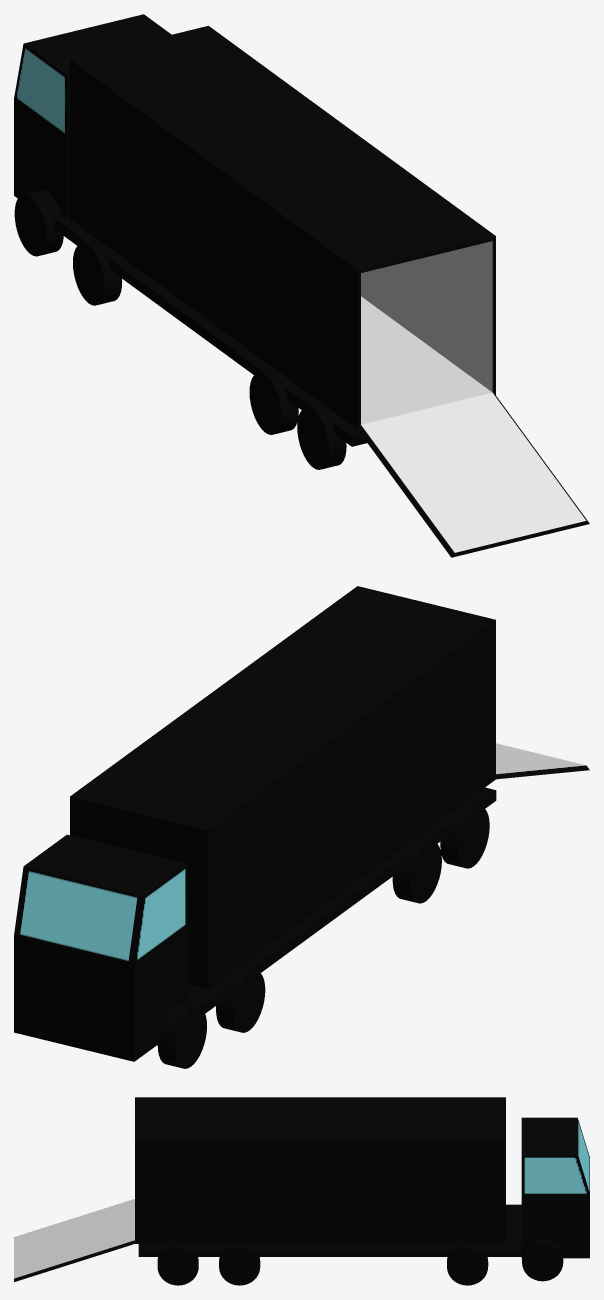
The model's file is FBI_Truck.fbx.
3 renders of one model, top to bottom at view 1: azimuth 30°, elevation 25°; view 2: azimuth 150°, elevation 25°; view 3: azimuth 270°, elevation 25°, orthographic. The views are drawn at different scales.
Visible parts, largest first — view 1: FBI_Truck; view 2: FBI_Truck; view 3: FBI_Truck.
Boxes of the visible parts, x1,y1,x2,y2 form: FBI_Truck: [14, 14, 589, 557]; FBI_Truck: [14, 586, 589, 1068]; FBI_Truck: [14, 1097, 589, 1285].
Size of the model in its own units: 575 by 758 by 2795.
Materials: 1 (1 with a texture image).
